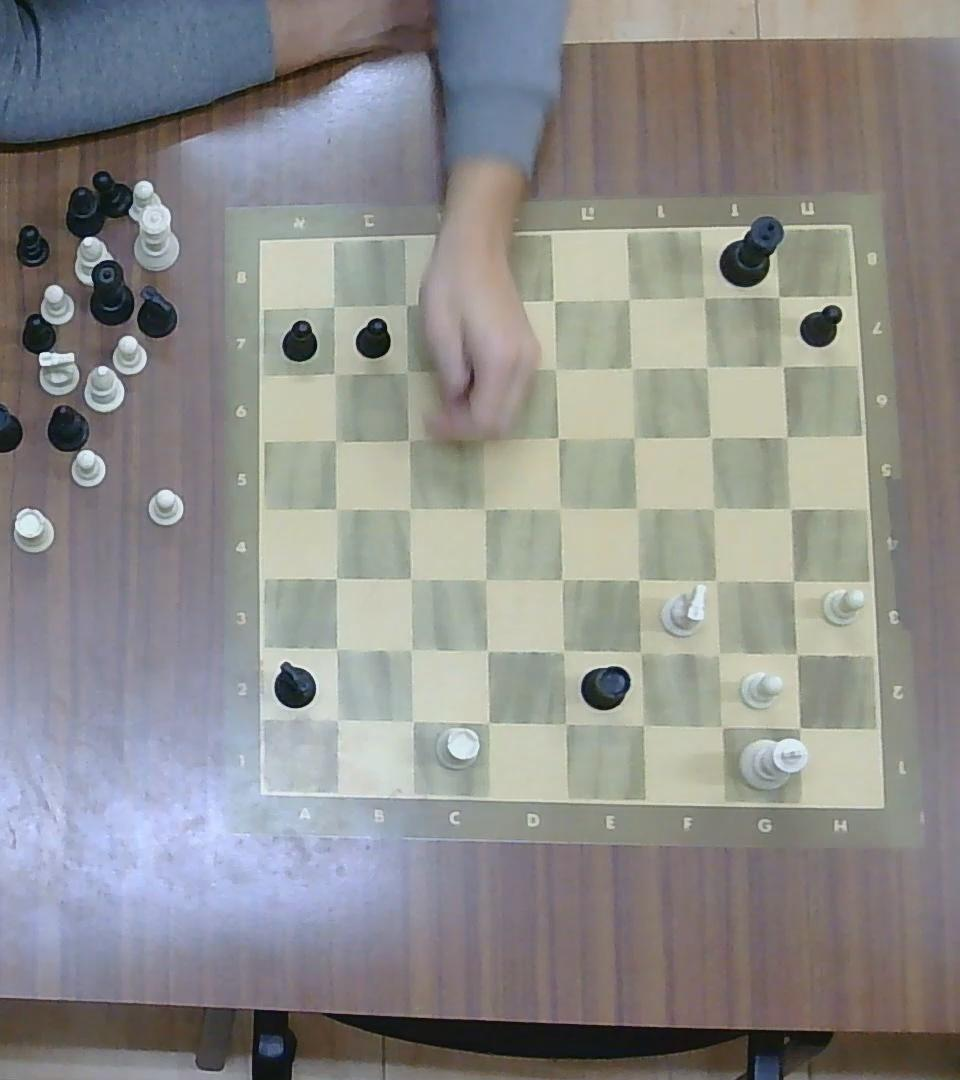xcorner: (781, 710, 815, 744), (701, 636, 735, 669), (468, 285, 502, 318), (626, 707, 658, 740), (705, 708, 736, 742), (548, 706, 580, 738), (781, 638, 813, 670), (625, 635, 656, 667), (320, 703, 352, 734), (622, 563, 653, 594), (472, 706, 502, 738), (471, 634, 501, 665), (548, 634, 578, 665), (698, 492, 728, 523), (776, 565, 807, 595), (622, 492, 652, 523), (395, 634, 425, 664), (397, 705, 427, 735), (700, 565, 730, 595), (615, 283, 645, 313), (541, 283, 570, 314), (548, 563, 577, 594), (470, 564, 500, 593), (776, 493, 806, 522), (617, 351, 646, 381), (691, 282, 720, 311), (466, 422, 495, 451), (542, 351, 570, 381), (471, 493, 499, 522), (547, 493, 575, 522), (395, 564, 424, 592), (319, 291, 348, 319), (321, 564, 350, 592), (322, 633, 350, 662), (693, 351, 721, 380), (323, 495, 351, 523), (465, 355, 493, 383), (396, 493, 423, 522), (321, 425, 350, 452), (320, 359, 349, 386), (772, 421, 801, 448), (621, 423, 649, 450), (545, 423, 573, 450), (769, 352, 797, 379), (393, 357, 420, 384), (698, 423, 725, 450), (392, 290, 419, 317), (765, 284, 794, 309), (395, 425, 421, 452)
